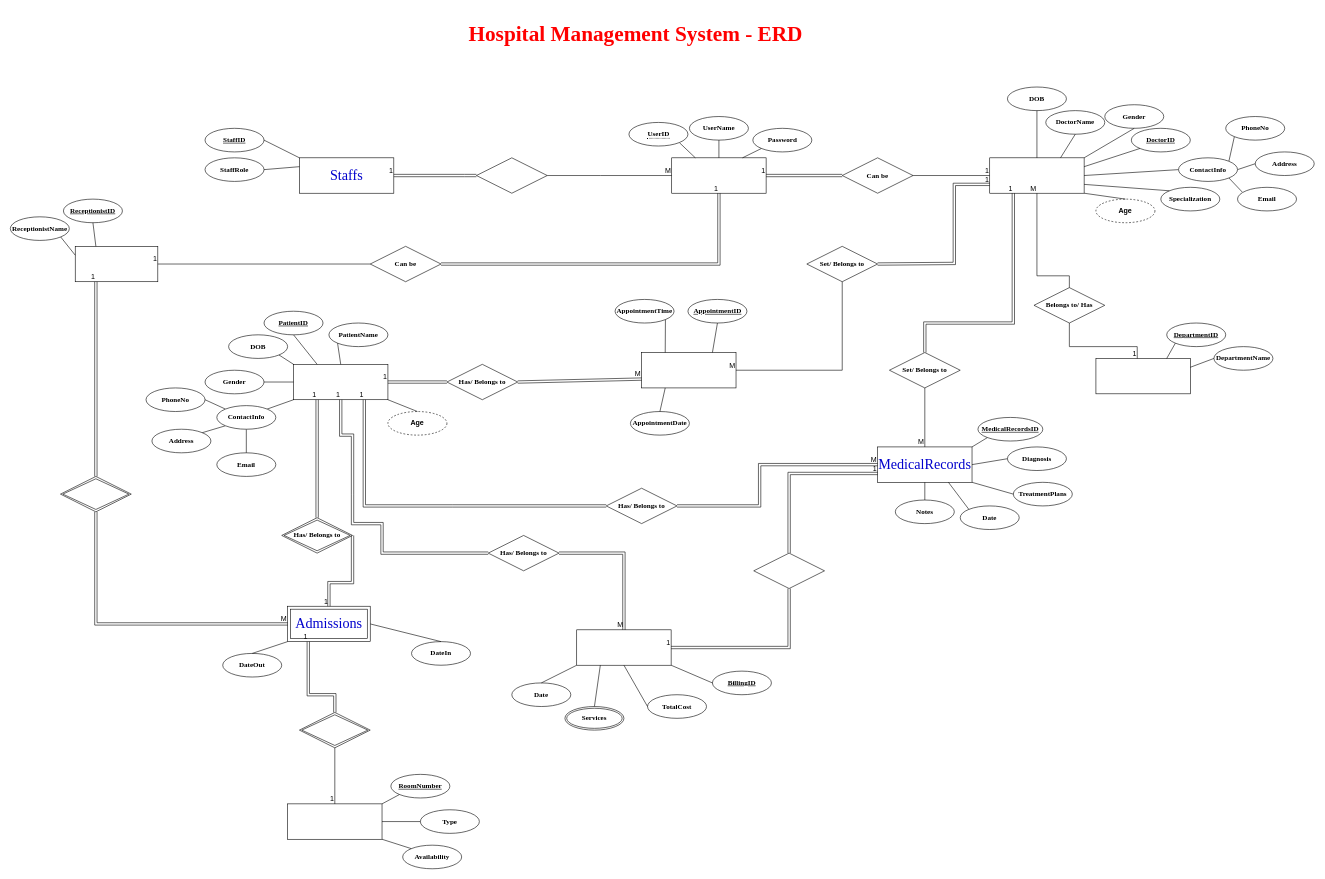
The diagram is 1325 pixels wide and 879 high, and some of its shapes have lost their labels. The box of each missing label's shape, as (x1, y1, x2, y2) in pixels:
Appointments: (641, 352, 736, 388)
Billing: (576, 629, 671, 665)
Departments: (1095, 358, 1190, 394)
Doctors: (989, 157, 1084, 193)
Generate/ has: (753, 553, 825, 589)
Has: (476, 157, 547, 193)
Host: (299, 712, 370, 748)
Patients: (293, 364, 388, 400)
Receptionist: (75, 246, 158, 282)
Rooms: (287, 803, 382, 839)
Set: (60, 476, 131, 512)
Users: (671, 157, 766, 193)
